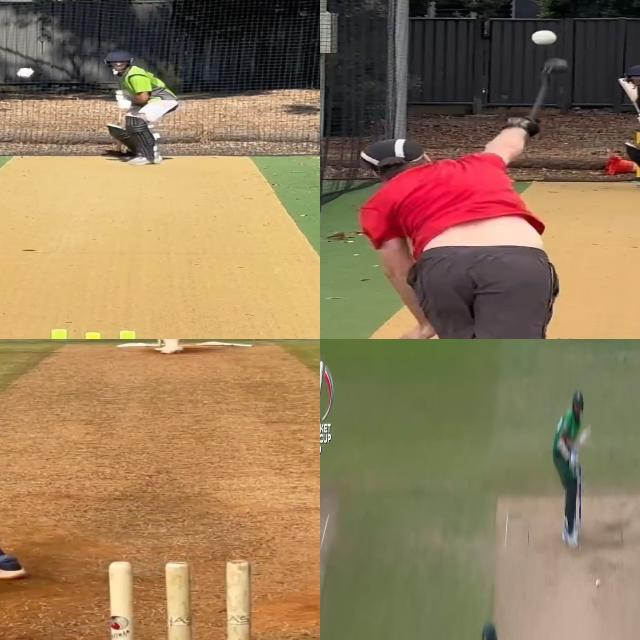Cricket ball: (107, 559, 259, 640), (530, 30, 560, 47), (15, 67, 38, 80), (596, 577, 602, 590)
